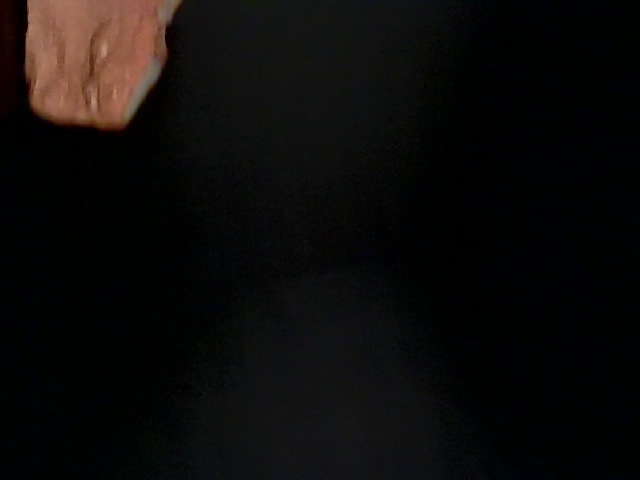KHSLJ: (1, 170, 253, 458)
